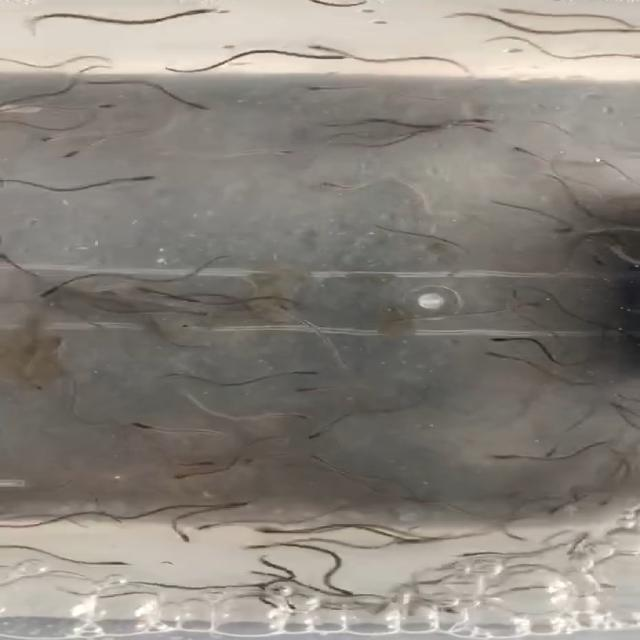active_glass_eel: (104, 414, 164, 436), (304, 174, 362, 196), (25, 282, 71, 308), (263, 142, 310, 166), (297, 32, 343, 55), (462, 342, 506, 366), (180, 93, 232, 113), (482, 440, 520, 465), (164, 534, 213, 552), (322, 574, 360, 596), (299, 422, 340, 442), (292, 80, 337, 98), (452, 110, 492, 130), (289, 358, 321, 383), (110, 548, 142, 573), (61, 145, 105, 163), (32, 127, 79, 143), (263, 298, 309, 314), (172, 458, 197, 486), (480, 330, 512, 350), (506, 140, 538, 159), (130, 279, 160, 299), (246, 538, 276, 557), (243, 522, 287, 534)
